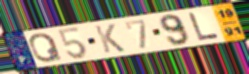5: (56, 25, 89, 61)
7: (123, 18, 149, 51)
9: (157, 13, 192, 47)
K: (92, 23, 127, 55)
L: (187, 11, 221, 42)
Q: (28, 32, 65, 64)
